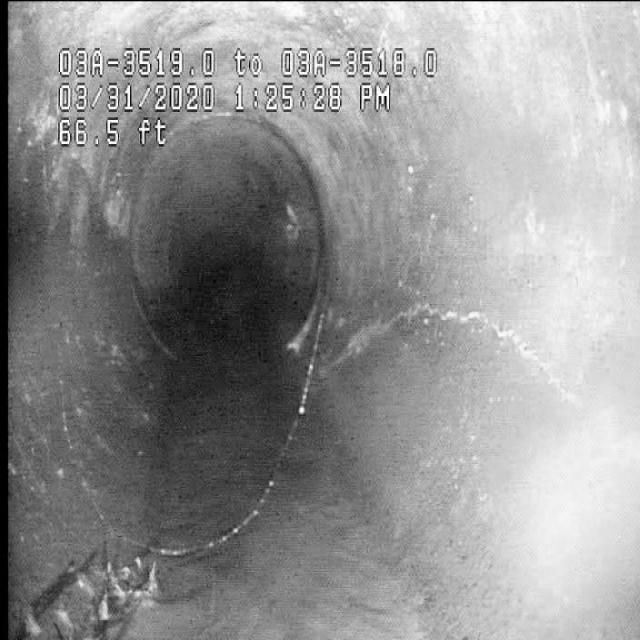Crack: (327, 274, 563, 390)
